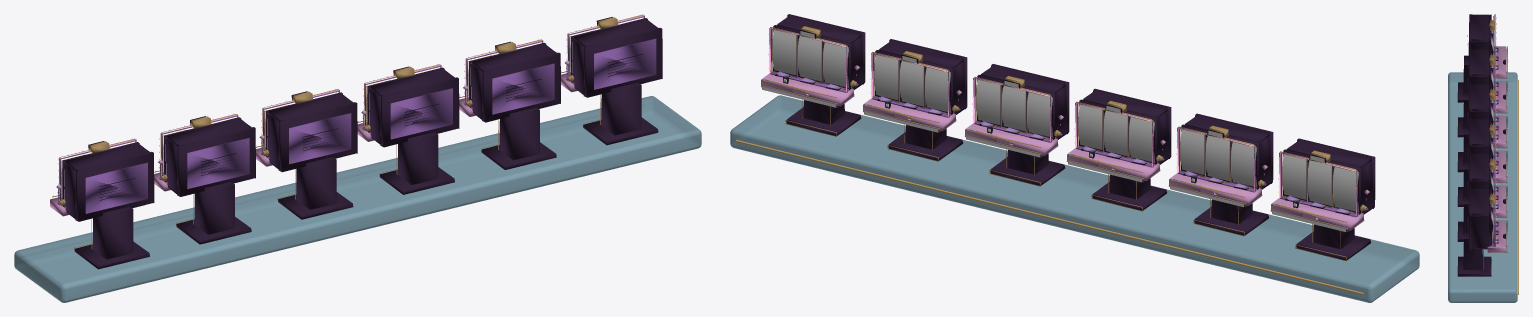
File: threshold-slot-row-lod0.glb
3 renders of one model, left to right at view 1: azimuth 30°, elevation 25°; view 2: azimuth 150°, elevation 25°; view 3: azimuth 270°, elevation 25°, orthographic. The views are drawn at different scales.
Parts seen in each view (by area): view 1: frame; view 2: frame; view 3: frame.
Boxes of the visible parts, box(x1,y1,x2,y2) form: frame: box(14, 14, 701, 302); frame: box(730, 14, 1419, 302); frame: box(1448, 14, 1518, 302).
Bounding box in the file's own units: 12.3 × 2.23 × 1.68.
